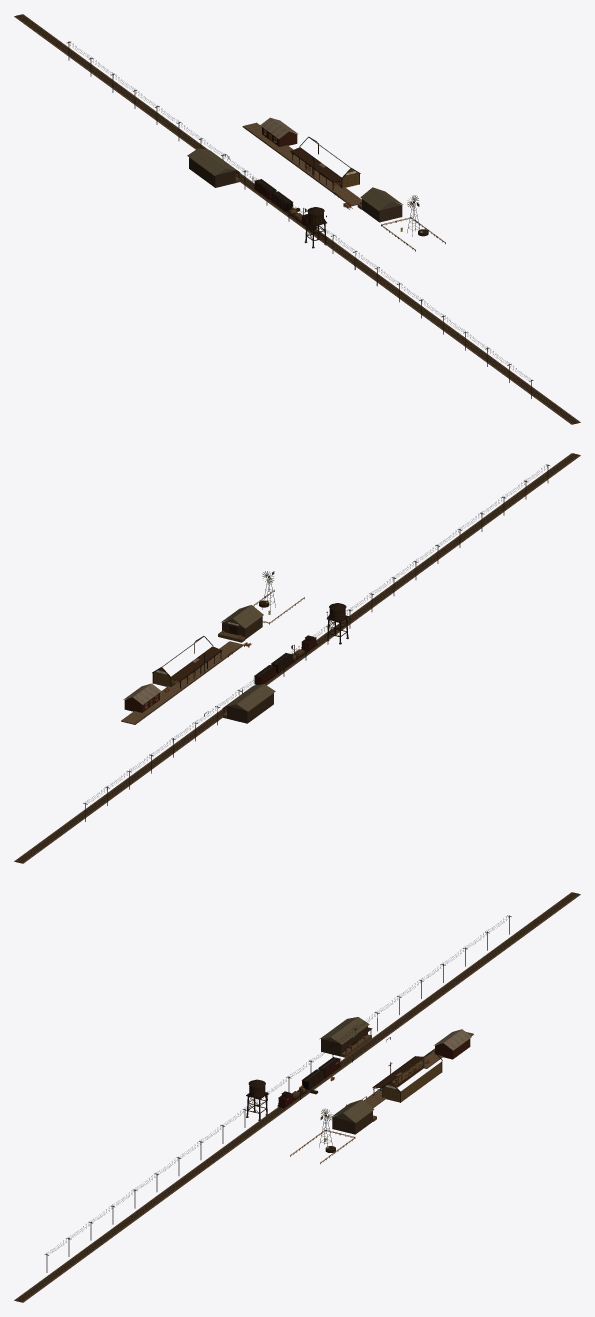
The model's file is depot.glb.
The picture shows the model from 3 angles, top to bottom: view 1: azimuth 30°, elevation 25°; view 2: azimuth 150°, elevation 25°; view 3: azimuth 330°, elevation 25°; orthographic projection.
Visible parts, largest first — view 1: trim, adobe, masonry, walls; view 2: trim, adobe, masonry, walls; view 3: trim, adobe, masonry, walls.
Boxes of the visible parts, left/top/right/bottom form: trim: left=16, top=14, right=578, bottom=424; adobe: left=14, top=14, right=580, bottom=424; masonry: left=17, top=14, right=578, bottom=423; walls: left=189, top=127, right=402, bottom=222; trim: left=16, top=453, right=578, bottom=862; adobe: left=14, top=453, right=580, bottom=863; masonry: left=16, top=453, right=577, bottom=862; walls: left=124, top=616, right=273, bottom=723; trim: left=16, top=892, right=578, bottom=1302; adobe: left=14, top=892, right=580, bottom=1302; masonry: left=17, top=892, right=577, bottom=1301; walls: left=321, top=1026, right=470, bottom=1134.
Bounding box in the file's own units: 45.75 × 14.38 × 380.
10 materials, 8 textured.
